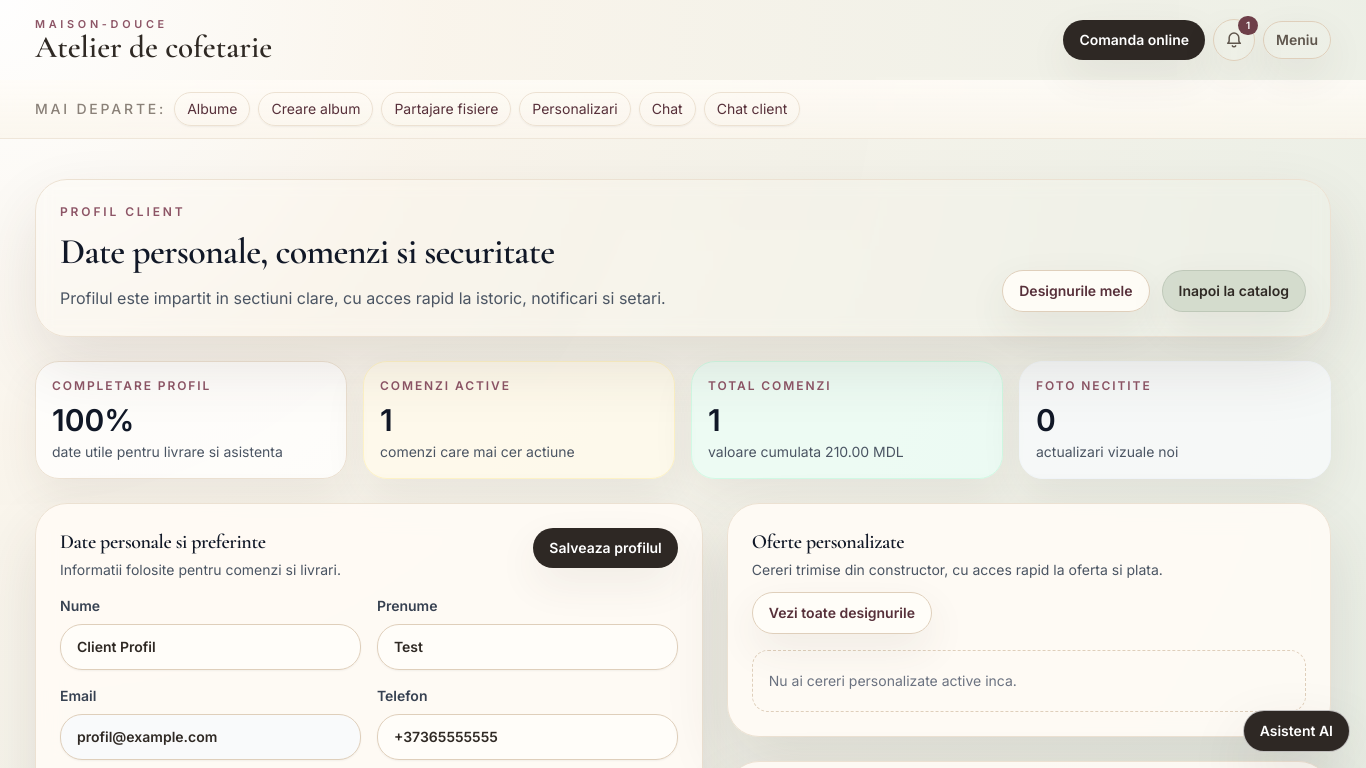
Test: Profile flow (CI) › loads profile data and saves updates
expect the text "Profil client" is shown: met, box x1=60 y1=204 x2=186 y2=218
Replace the text in the field labelled "Telefon" with "+37369999999" at (528, 737), box x1=377 y1=714 x2=678 y2=760
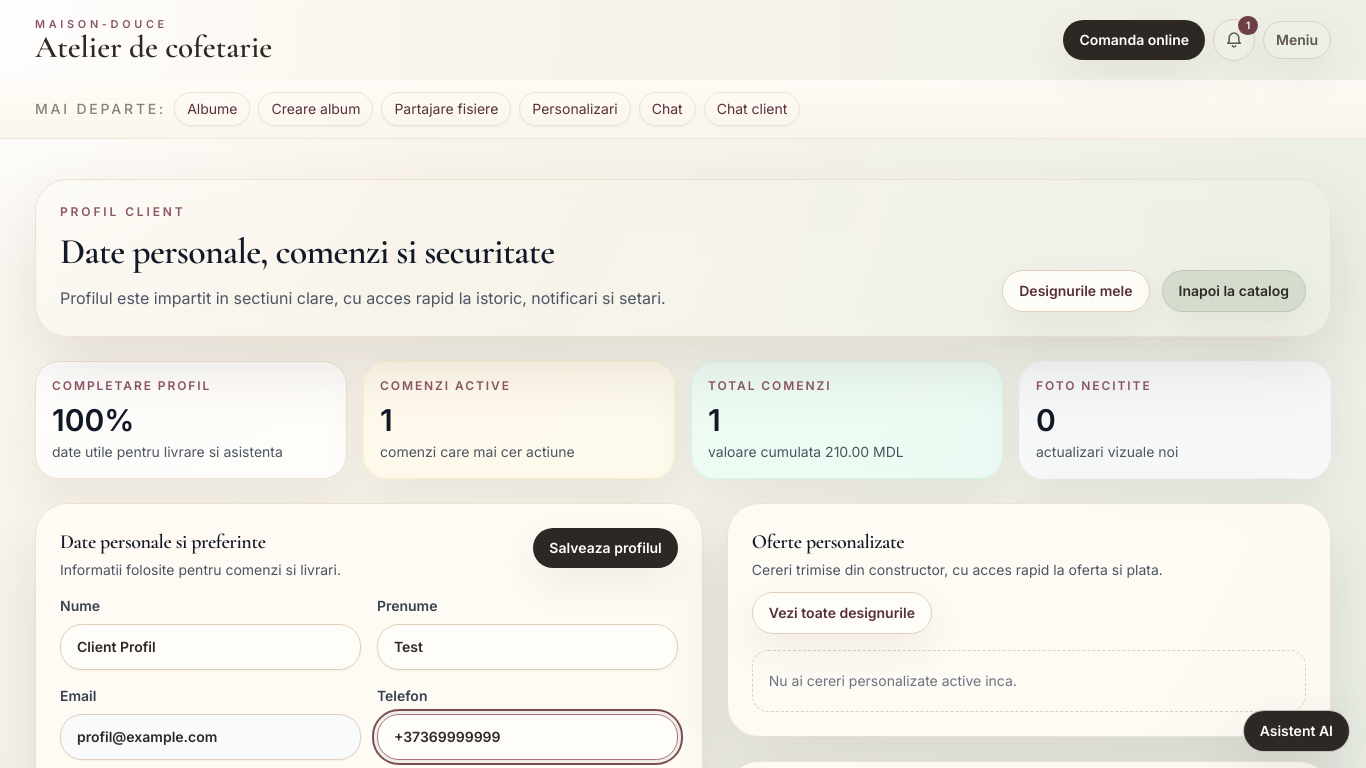
Click the button "Salveaza profilul".
click(605, 548)  # box x1=533 y1=528 x2=677 y2=568
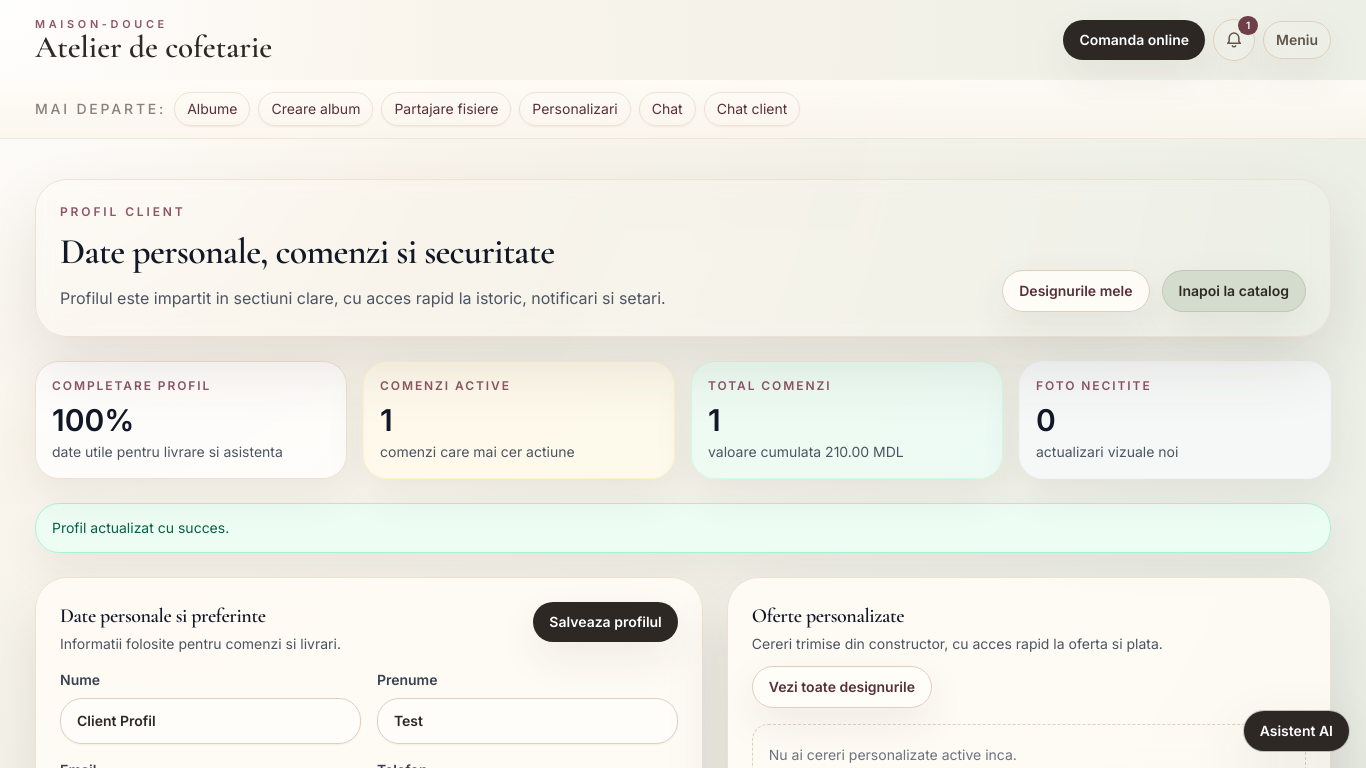
expect the text "Profil actualizat cu succes." is shown: met, box x1=52 y1=518 x2=229 y2=536
